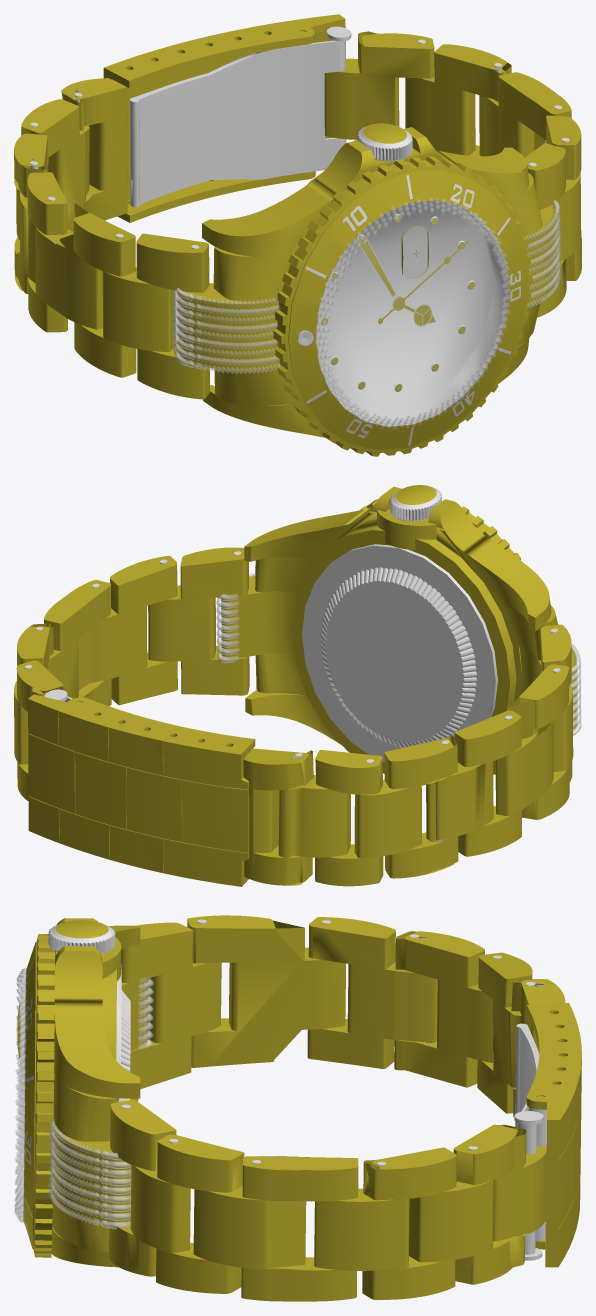
The model's file is watch.glb.
3 renders of one model, top to bottom at view 1: azimuth 30°, elevation 25°; view 2: azimuth 150°, elevation 25°; view 3: azimuth 270°, elevation 25°, orthographic. The views are drawn at different scales.
Visible parts, largest first — view 1: watch, diamond; view 2: watch, diamond; view 3: watch, diamond.
Boxes of the visible parts, box(x1,y1,x2,y2) form: watch: box(14, 14, 581, 456); diamond: box(172, 198, 561, 429); watch: box(14, 485, 577, 886); diamond: box(216, 573, 581, 735); watch: box(17, 915, 581, 1301); diamond: box(14, 968, 153, 1229).
Bounding box in the file's own units: 0.0814 × 0.0473 × 0.077.
